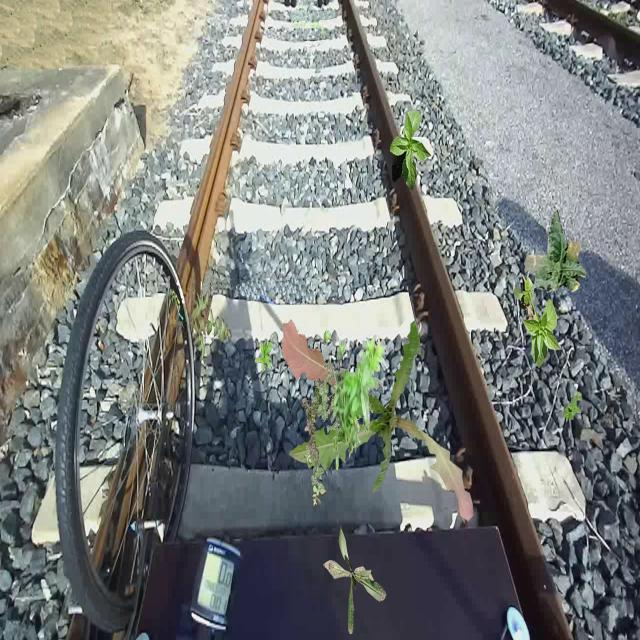Plant: (281, 319, 474, 522), (322, 327, 386, 470), (323, 523, 387, 635), (302, 369, 350, 507), (524, 209, 588, 292), (513, 274, 561, 369), (390, 110, 432, 190), (190, 290, 232, 362), (563, 391, 582, 424), (255, 340, 272, 372)
